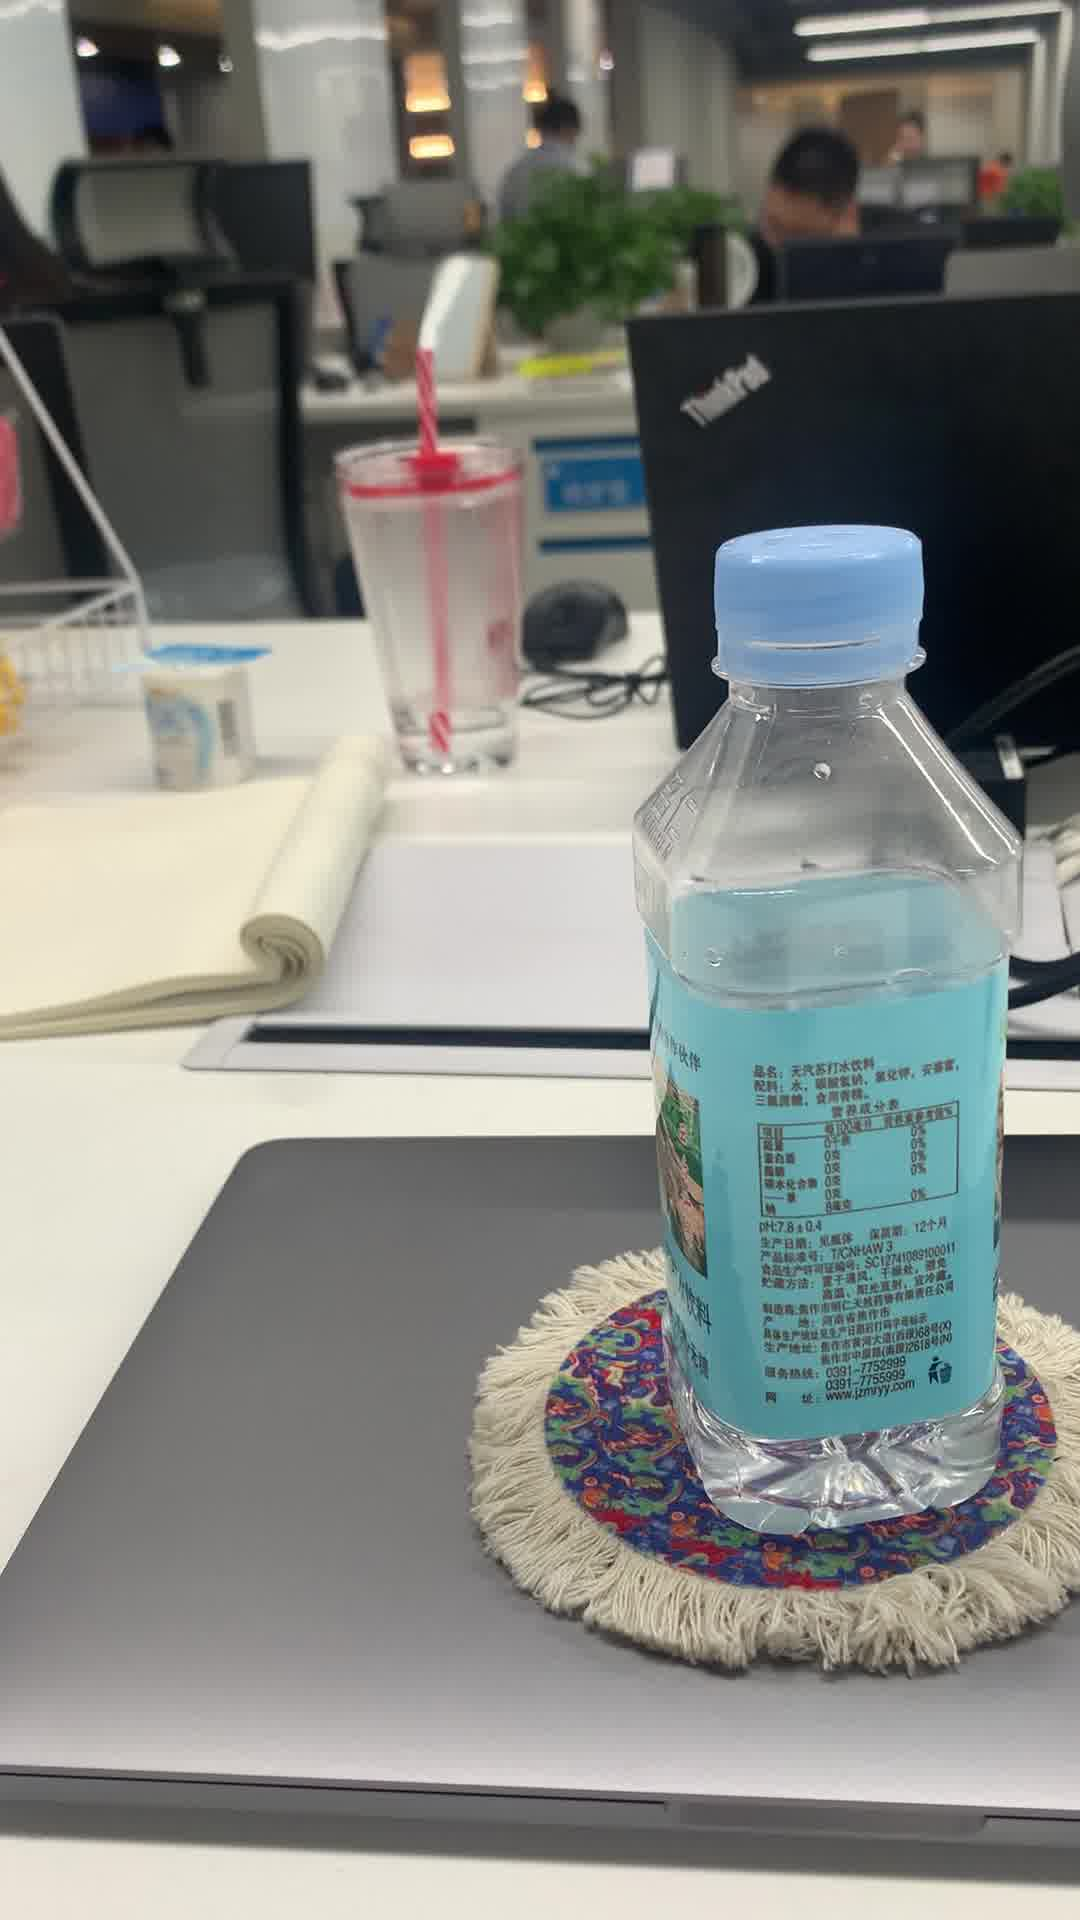水瓶: (637, 521, 1030, 1542)
